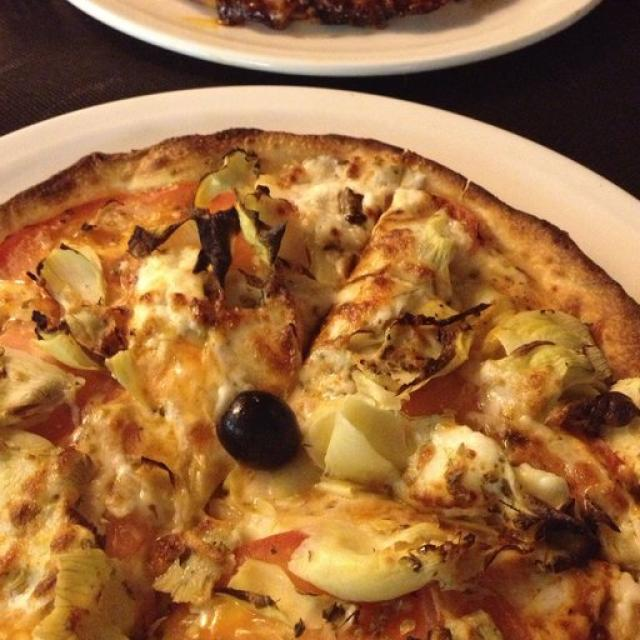Olives: (216, 395, 298, 462)
Onions: (299, 530, 469, 596), (32, 232, 120, 343), (312, 398, 412, 482), (41, 542, 120, 638), (0, 363, 68, 428)
Pizza: (0, 129, 640, 640)
